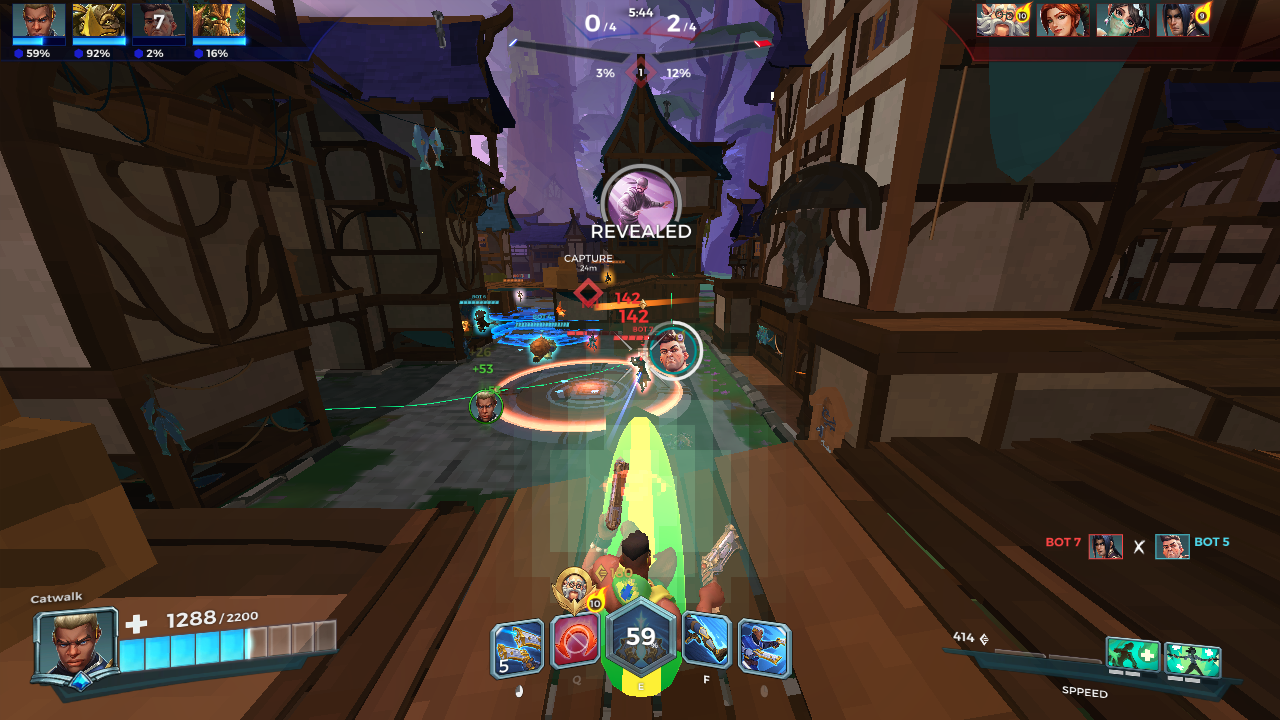model: (627, 346, 654, 397), (587, 333, 600, 354), (603, 270, 614, 287), (514, 285, 524, 303)
